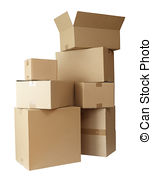box: (15, 108, 82, 170), (56, 11, 125, 50), (56, 52, 115, 82), (16, 81, 75, 109), (85, 110, 117, 158), (75, 83, 118, 108), (24, 58, 57, 81)
